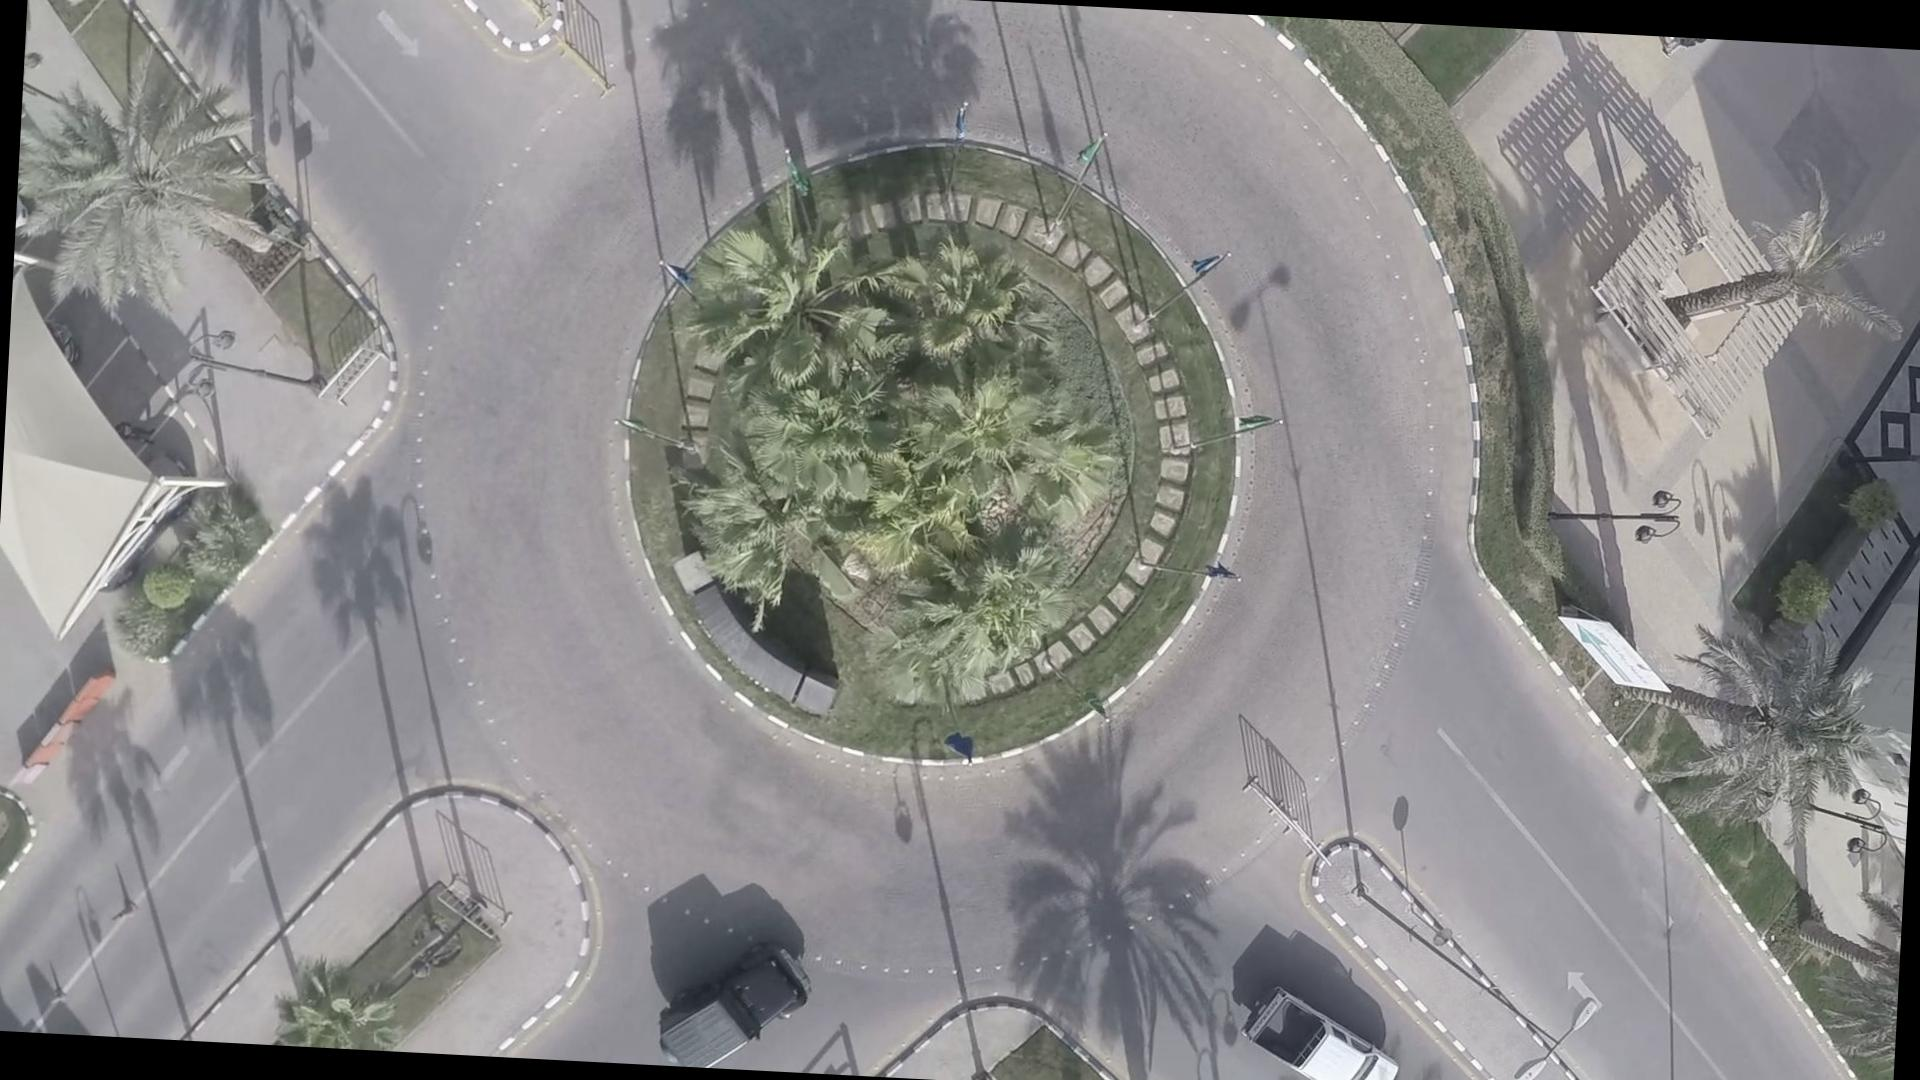vehicle: (655, 934, 820, 1072), (1237, 986, 1402, 1079)
